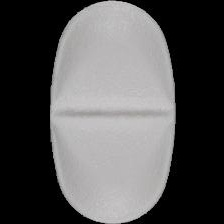54868-2077: (0, 0, 224, 224)
